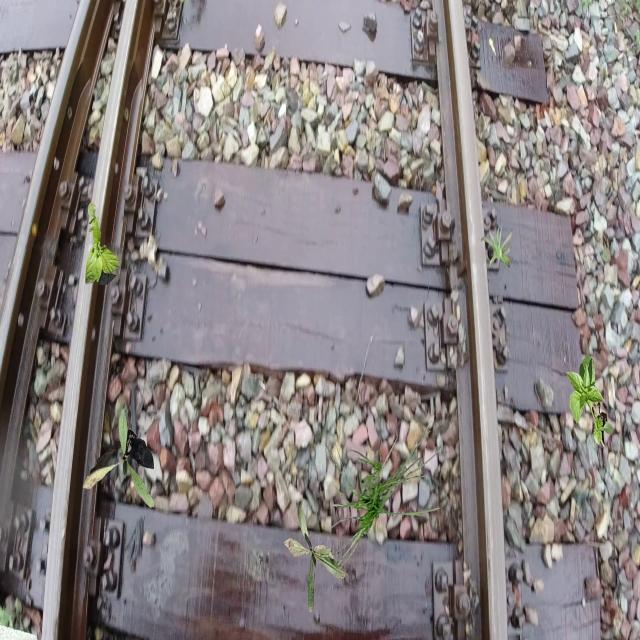Plant: (323, 414, 442, 578), (283, 501, 347, 613), (83, 408, 154, 508), (566, 353, 614, 448), (85, 202, 120, 286), (481, 223, 514, 269)
